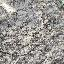Purslane: (7, 0, 64, 47)
